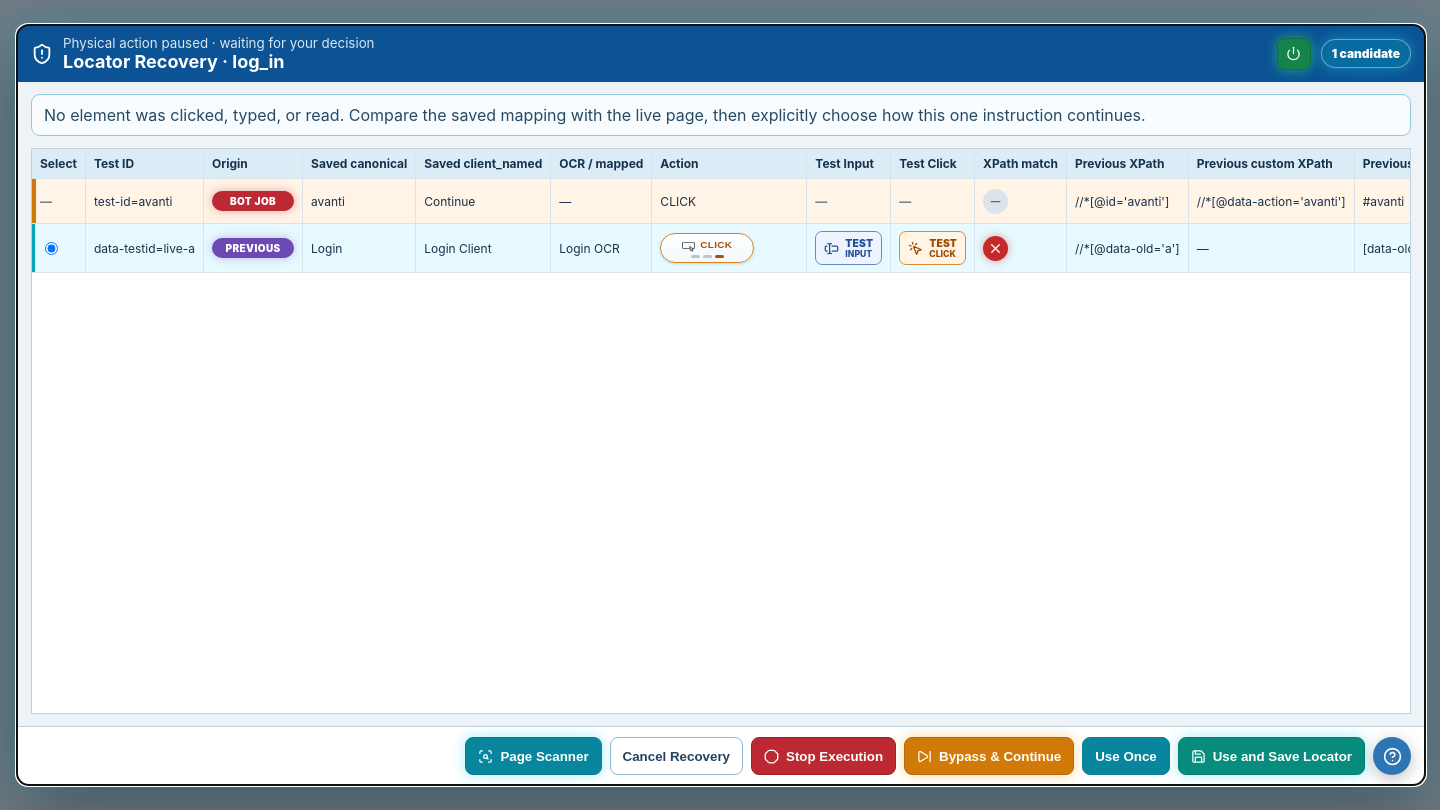
Test case: shows a Page Scanner failure without settling or closing recovery
The width and height of the screenshot is (1440, 810).
Click the button "Page Scanner". click: (534, 756)
box: [465, 737, 602, 775]
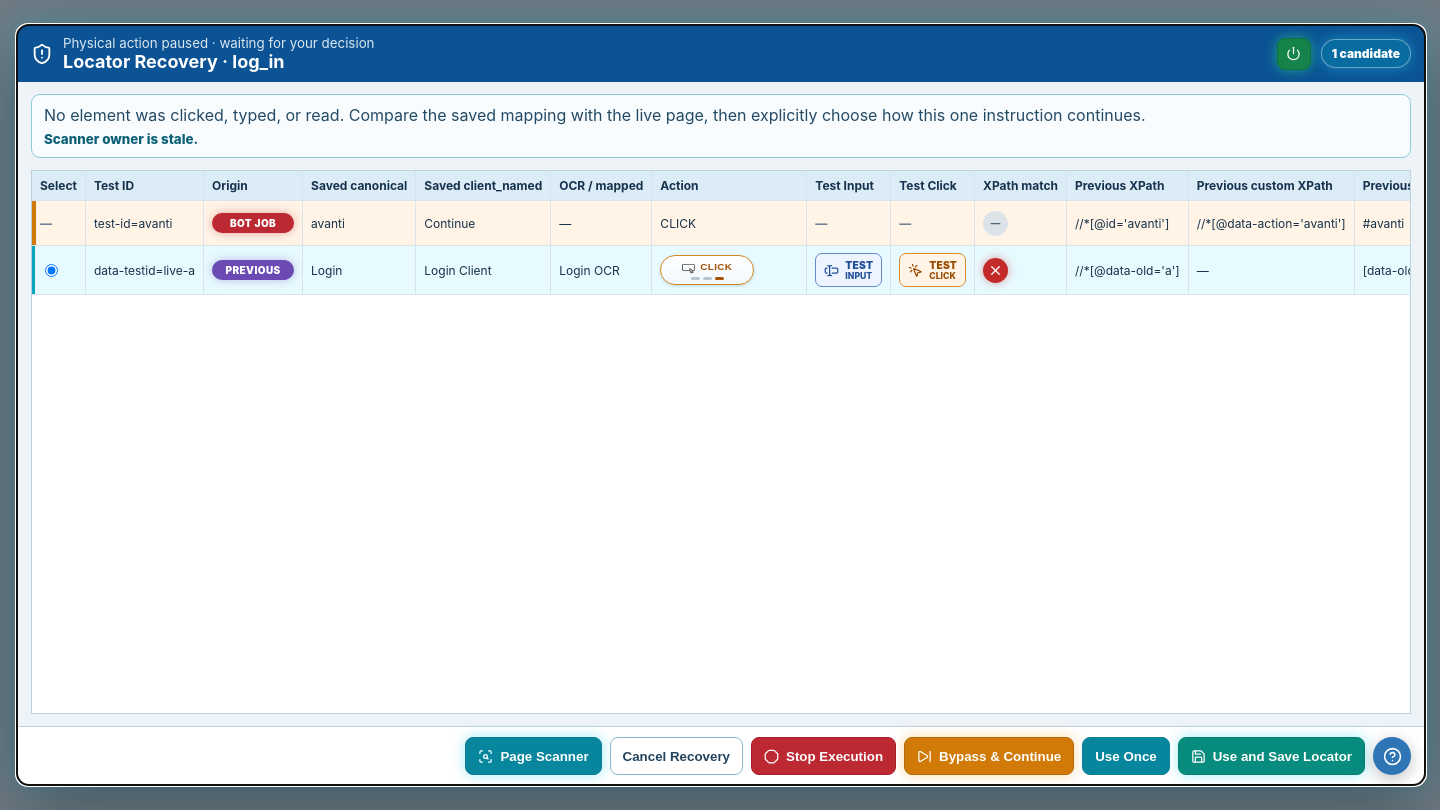
Expected: the button "Use Once" is enabled, [1082, 737, 1170, 775]
Expected: the text "Scanner owner is stale." is shown, [44, 131, 198, 147]
